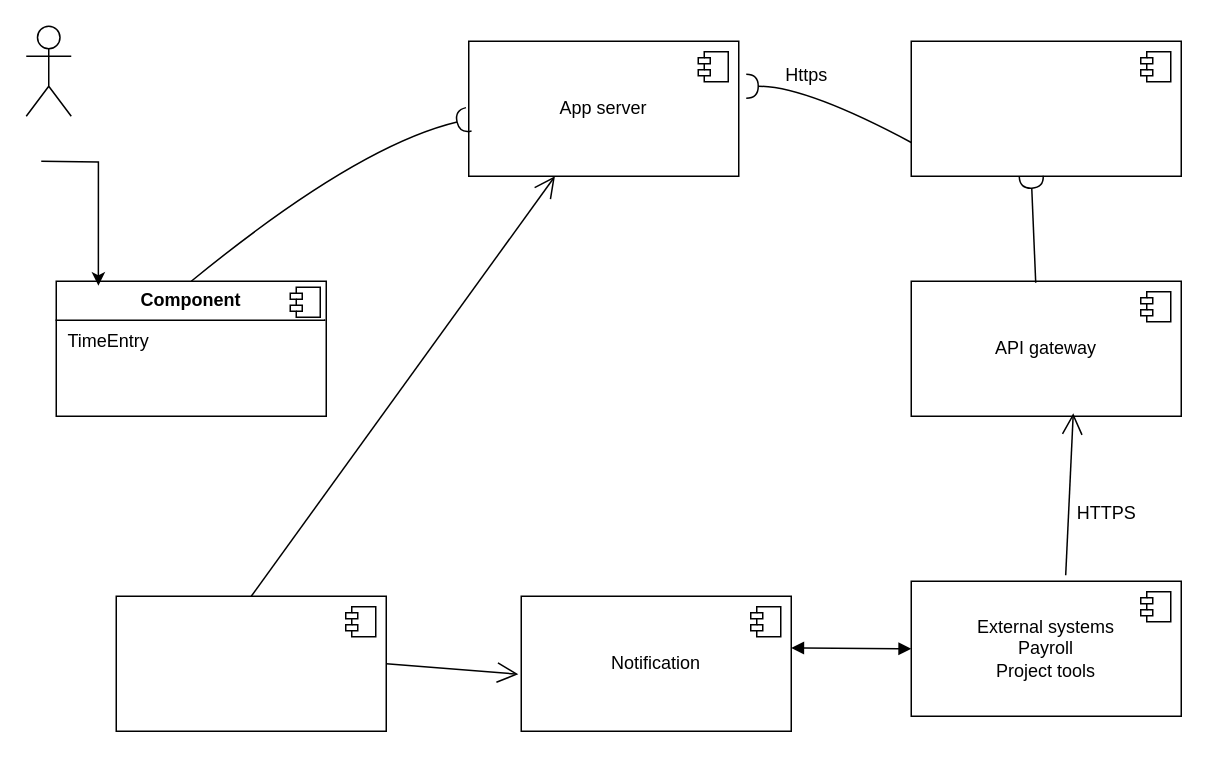
This 1208x758 diagram has some shape labels left out. Each missing label, with the centre of its shape:
Actor: the point at 48,70
Authenticaton: the point at 250,663
DB server: the point at 1045,108
